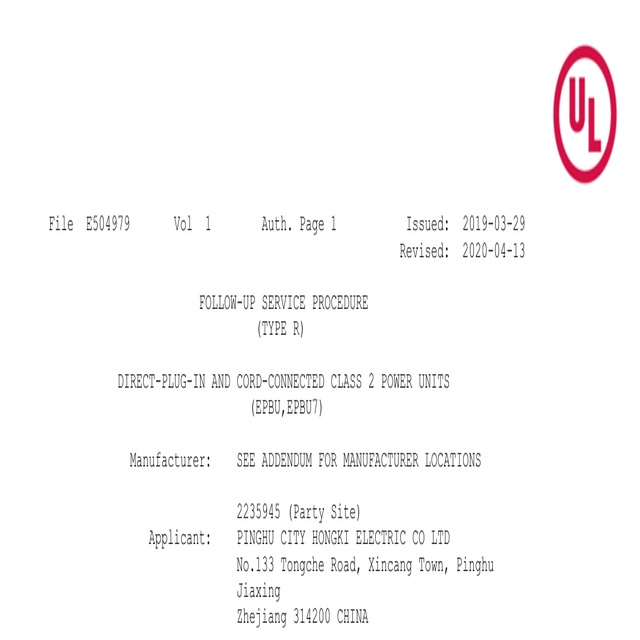ul: (553, 45, 617, 184)
